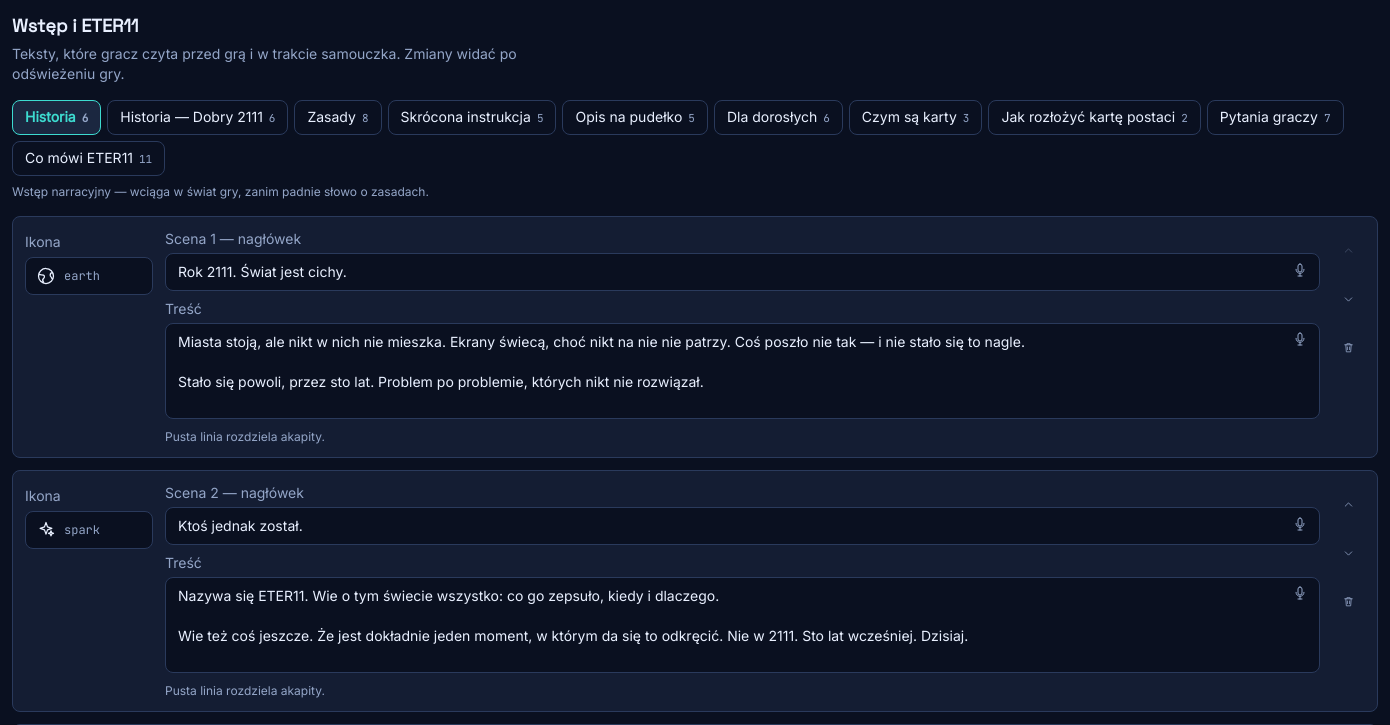
Test case: StoryEditor — nowe zakładki wydruku › pokazuje zakładki „Czym są karty" i „Jak rozłożyć kartę postaci" z treścią wbudowaną
The image size is (1390, 725).
Click the button "Czym są karty3". click: click(916, 118)
box: [849, 100, 982, 135]
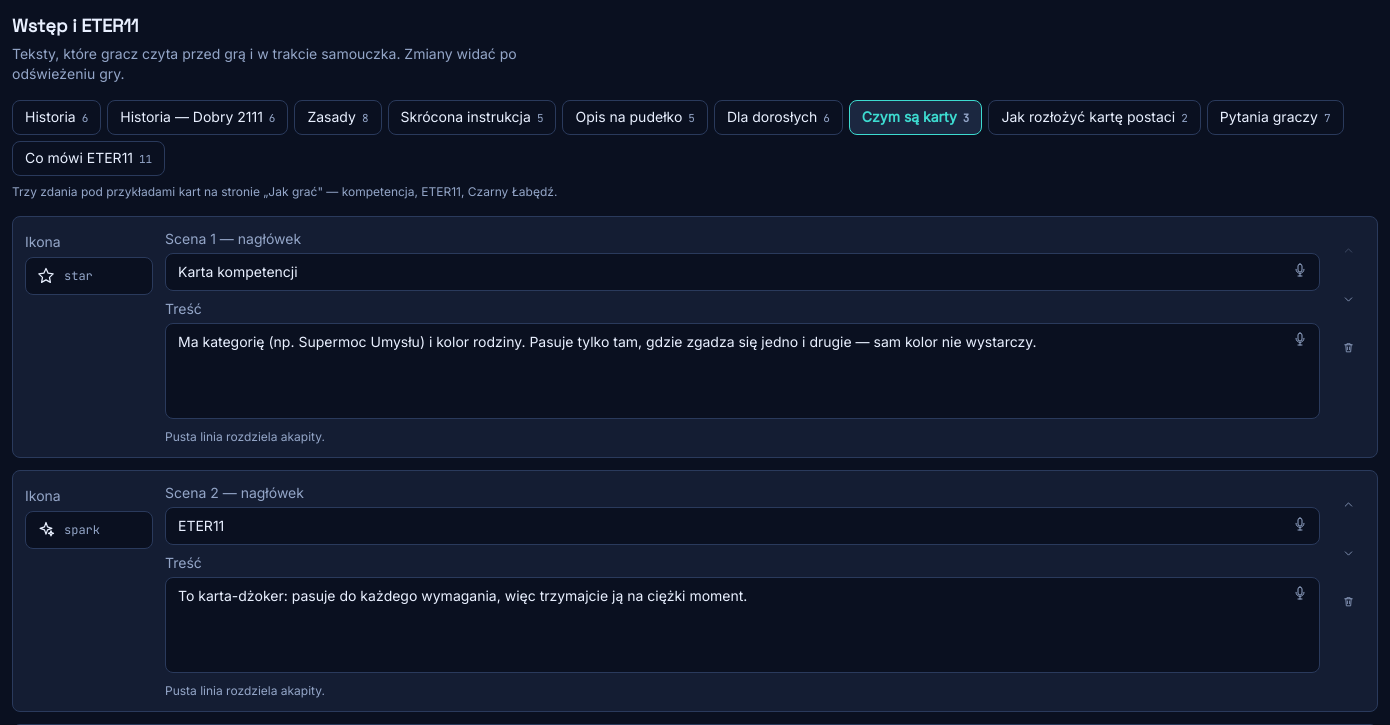
Expected: the field showing "Karta kompetencji" is shown, [165, 253, 1320, 291]
Click the button "Jak rozłożyć kartę postaci2". click: click(1095, 118)
box: [988, 100, 1201, 135]
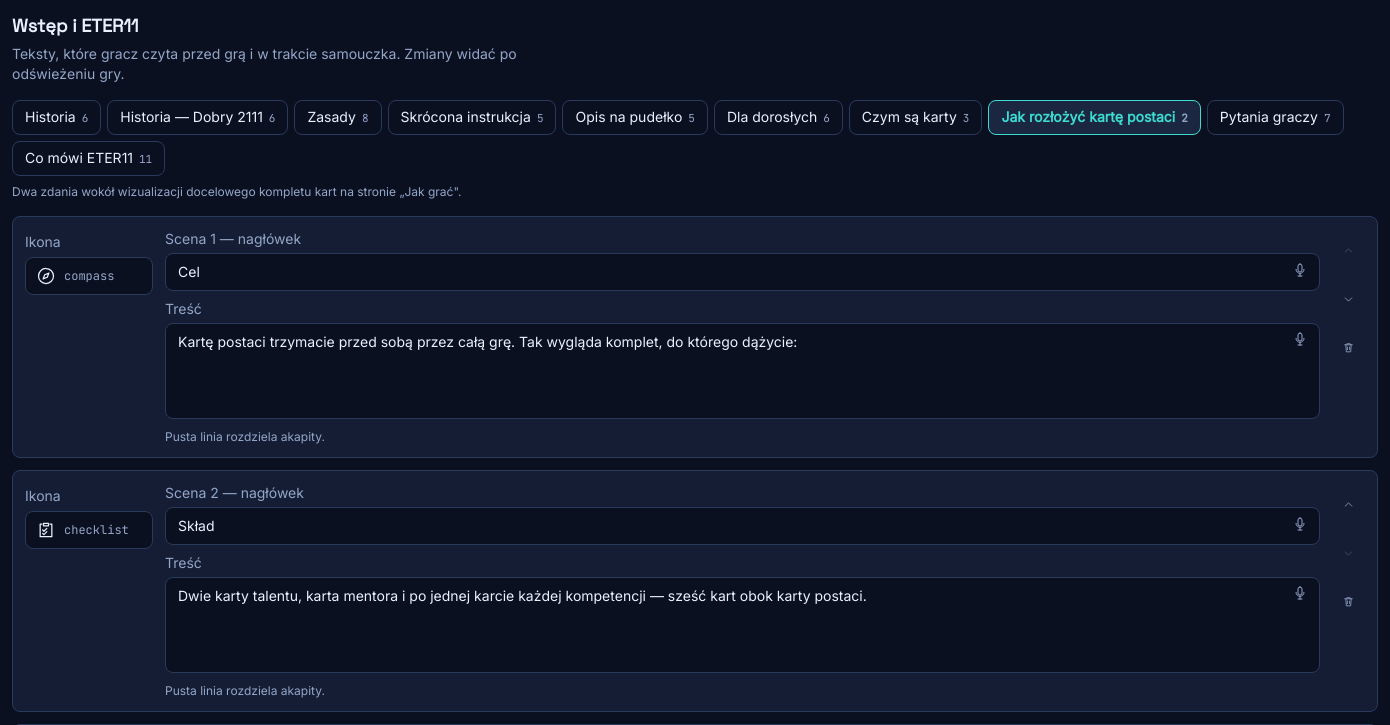
Expected: the field showing "Cel" is shown, [165, 253, 1320, 291]
